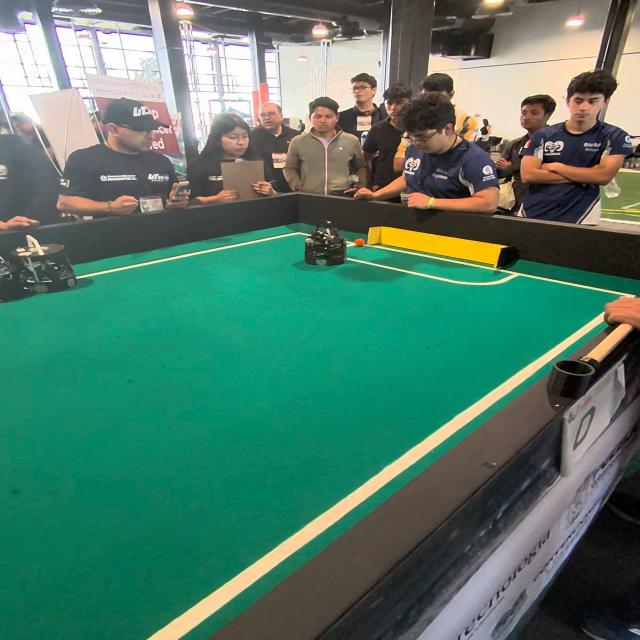Robot: (0, 233, 81, 301), (302, 220, 349, 270)
pelota: (352, 236, 372, 250)
